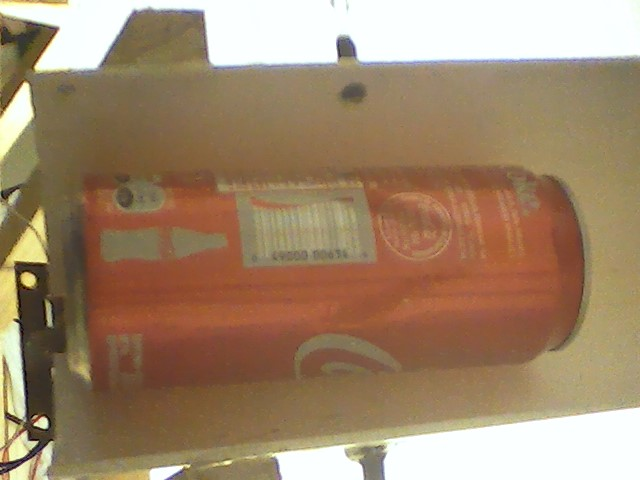lata: (51, 162, 599, 398)
